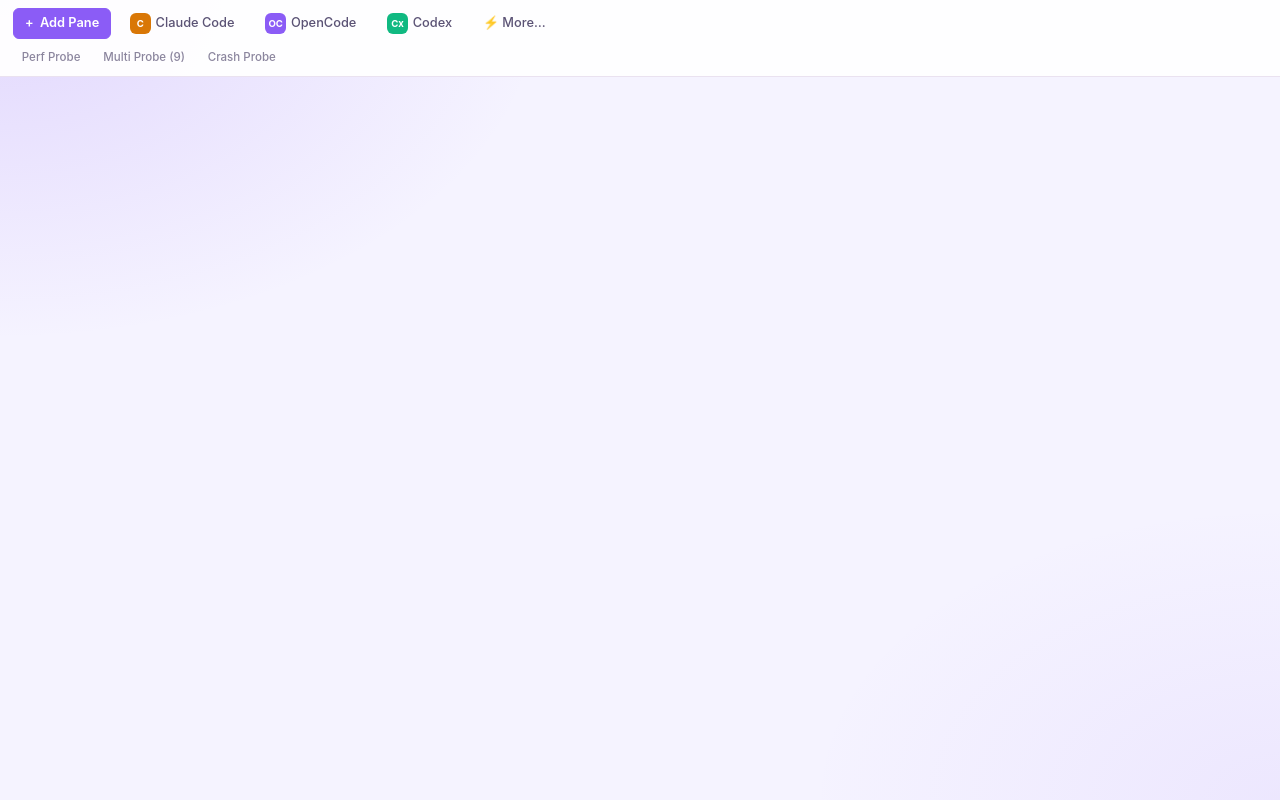
Test case: TerminalLauncher › runs perf probe when clicked
The image size is (1280, 800).
Click the button with test id "launcher-perf-probe" at point(51, 57), box 13,45 -> 89,70
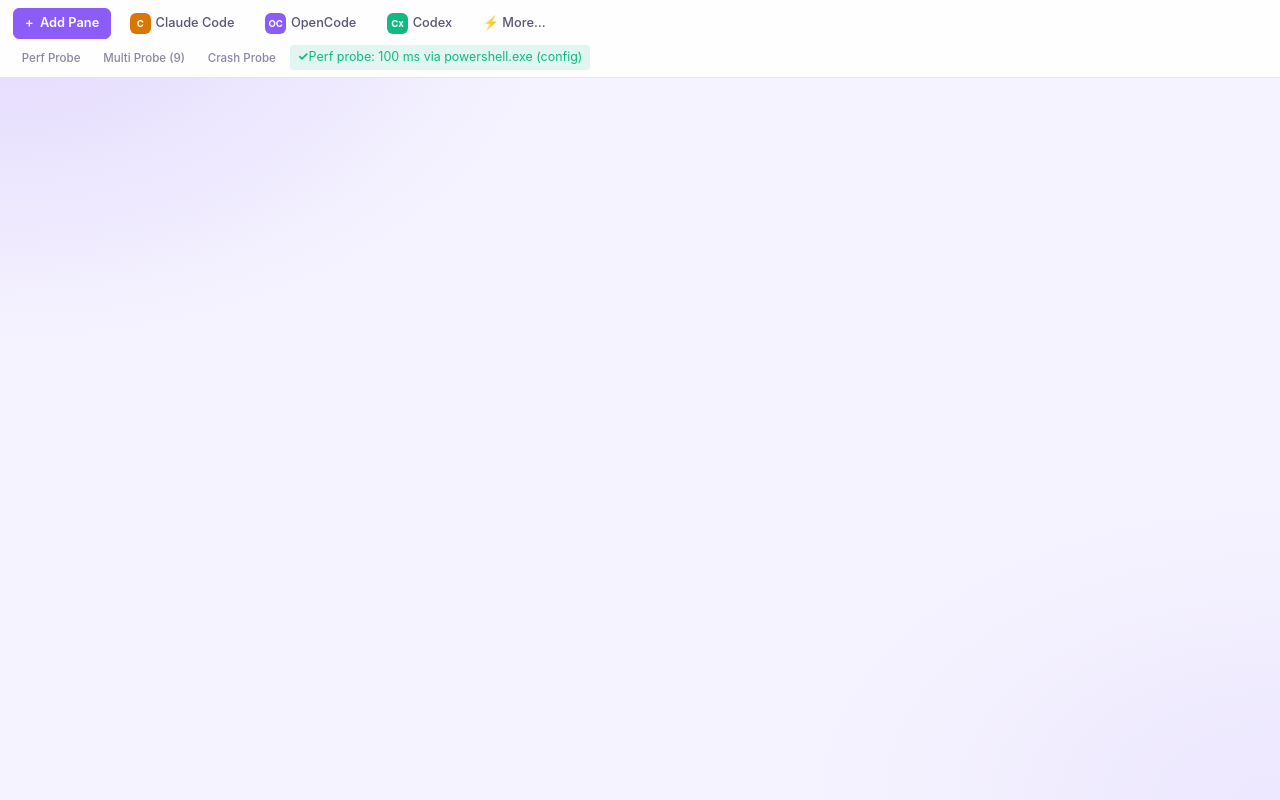
Now the text "Perf probe: 100 ms via powershell.exe (config)" is shown, box 290,45 -> 590,70
